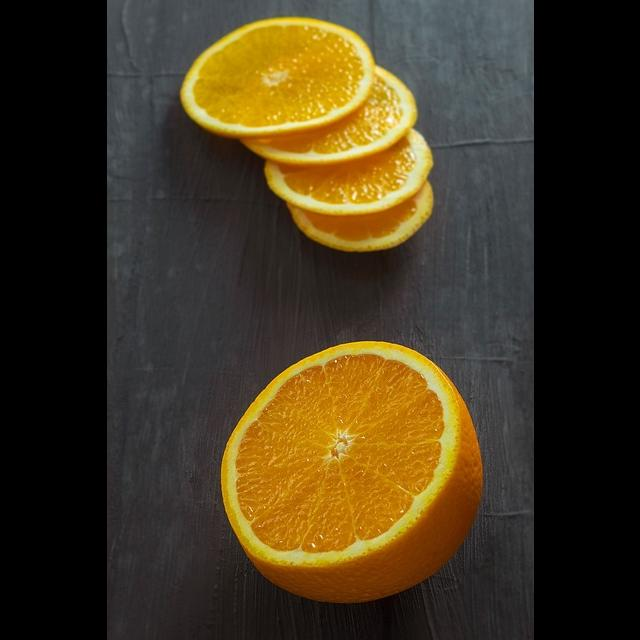orange: (212, 337, 515, 620), (171, 15, 381, 137), (238, 111, 440, 217), (215, 55, 426, 156), (288, 174, 450, 261)
